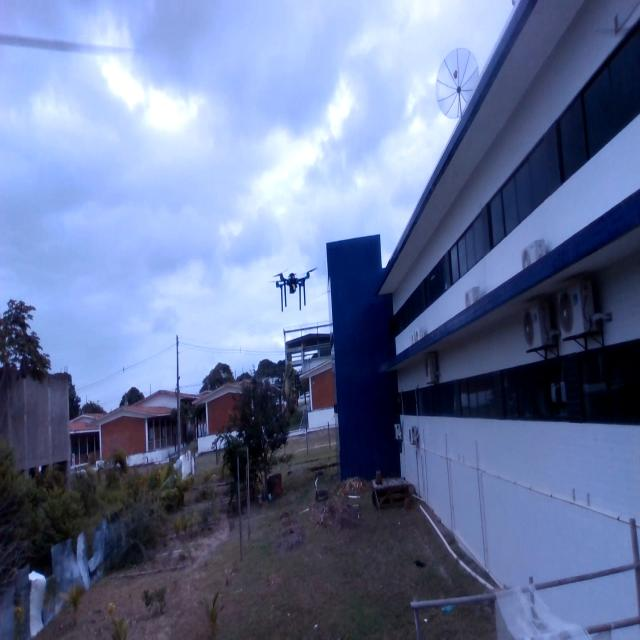-uav-: (266, 258, 322, 318)
